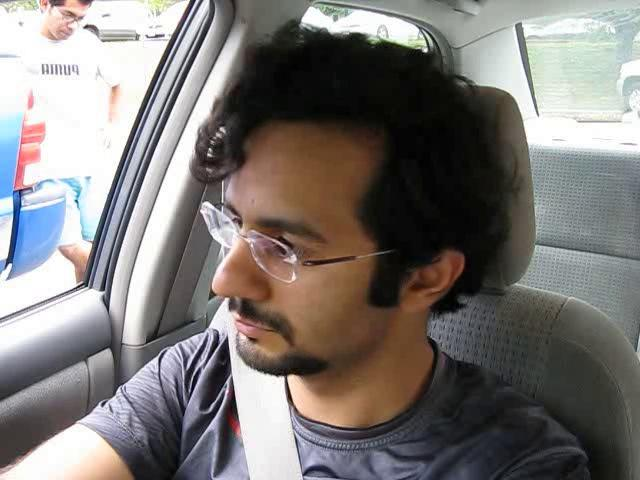no_yawn: (210, 299, 298, 354)
open_eyeL: (206, 199, 254, 253)
open_eyeR: (244, 220, 327, 275)
